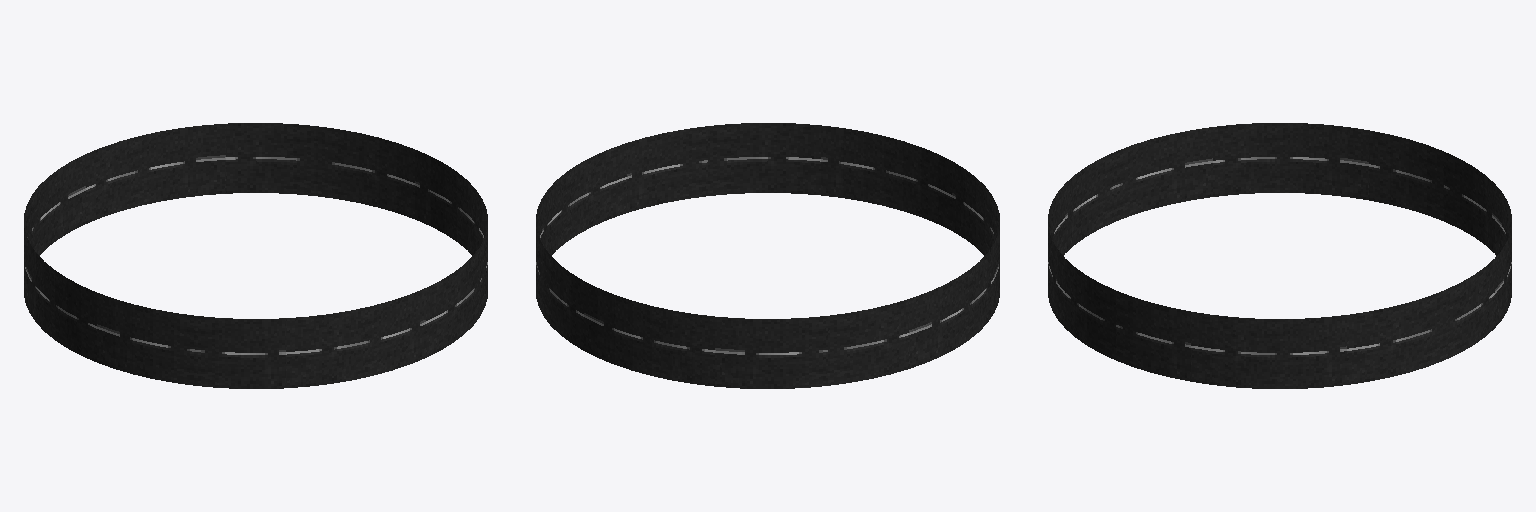
The picture shows the model from 3 angles: view 1: azimuth 30°, elevation 25°; view 2: azimuth 150°, elevation 25°; view 3: azimuth 270°, elevation 25°; orthographic projection.
Parts seen in each view (by area): view 1: Cylinder; view 2: Cylinder; view 3: Cylinder.
Part boxes in pixels (bbox=[...]): Cylinder: bbox=[24, 123, 487, 388]; Cylinder: bbox=[536, 123, 999, 388]; Cylinder: bbox=[1048, 123, 1511, 388].
Size of the model in its own units: 6 by 1 by 6.
1 materials, 1 textured.